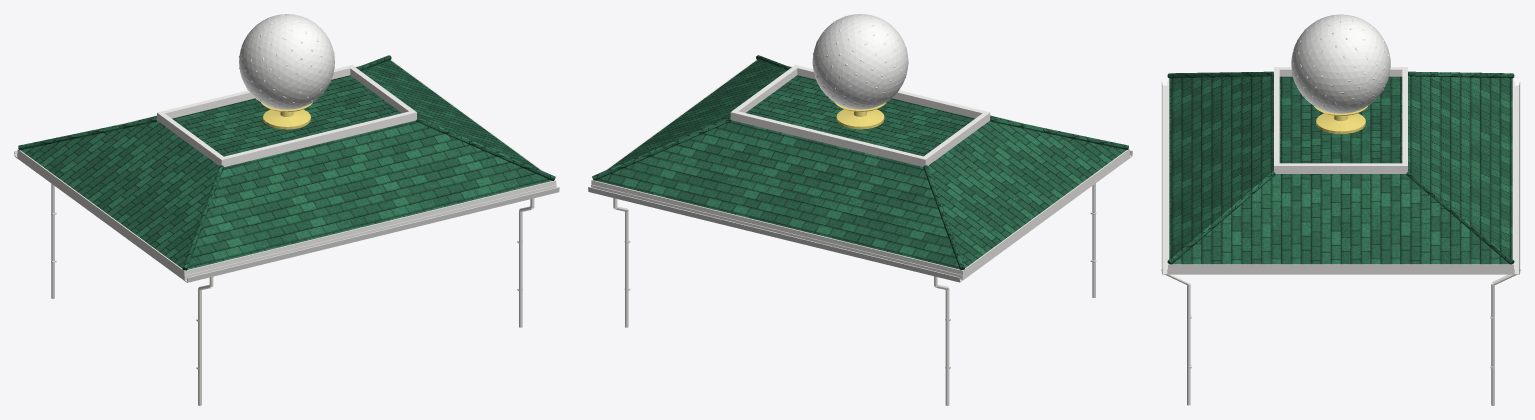
Rendered from c_roof.glb.
3 renders of one model, left to right at view 1: azimuth 30°, elevation 25°; view 2: azimuth 150°, elevation 25°; view 3: azimuth 270°, elevation 25°, orthographic. The views are drawn at different scales.
Visible parts, largest first — view 1: c_roof_roof_g, c_roof_trim, c_roof_ball, c_roof_gutter, c_roof_flag_y; view 2: c_roof_roof_g, c_roof_trim, c_roof_ball, c_roof_gutter, c_roof_flag_y; view 3: c_roof_roof_g, c_roof_ball, c_roof_trim, c_roof_gutter, c_roof_flag_y, c_roof_ball_d.
Boxes of the visible parts, bbox=[...] form: c_roof_roof_g: bbox=[18, 55, 555, 270]; c_roof_trim: bbox=[17, 59, 556, 280]; c_roof_ball: bbox=[239, 14, 334, 109]; c_roof_gutter: bbox=[14, 150, 559, 405]; c_roof_flag_y: bbox=[261, 102, 312, 129]; c_roof_roof_g: bbox=[592, 55, 1128, 270]; c_roof_trim: bbox=[591, 59, 1129, 280]; c_roof_ball: bbox=[812, 14, 908, 109]; c_roof_gutter: bbox=[588, 150, 1132, 405]; c_roof_flag_y: bbox=[834, 102, 886, 129]; c_roof_roof_g: bbox=[1167, 71, 1514, 264]; c_roof_ball: bbox=[1291, 14, 1390, 113]; c_roof_trim: bbox=[1168, 67, 1513, 274]; c_roof_gutter: bbox=[1161, 81, 1520, 405]; c_roof_flag_y: bbox=[1314, 106, 1367, 133]; c_roof_ball_d: bbox=[1291, 14, 1390, 109].
Bounding box in the file's own units: 8.98 × 6.76 × 7.23.
8 materials, 1 textured.
